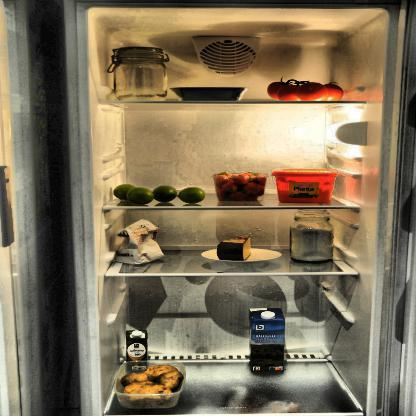butter: (273, 168, 337, 206)
cheese: (214, 234, 255, 261)
heavy_cream: (122, 329, 151, 374)
lime: (111, 180, 206, 206)
milk: (249, 306, 288, 373)
potato: (118, 359, 186, 410)
strawberries: (214, 170, 269, 204)
tomato: (265, 76, 348, 103)
